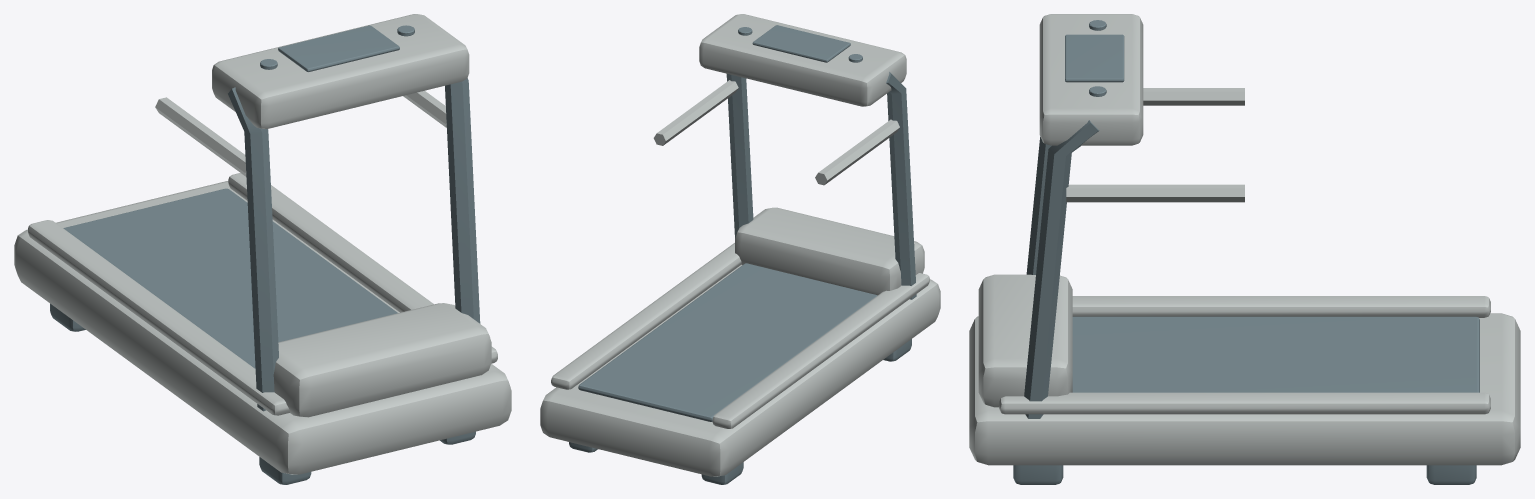
Rendered from treadmill.glb.
3 renders of one model, left to right at view 1: azimuth 30°, elevation 25°; view 2: azimuth 150°, elevation 25°; view 3: azimuth 270°, elevation 25°, orthographic. The views are drawn at different scales.
Parts seen in each view (by area): view 1: deck, running_belt, motor_cover, control_console, side_rail, front_upright, front_upright.001, side_rail.001, display, handrail, handrail.001, foot.001; view 2: running_belt, deck, motor_cover, control_console, side_rail, side_rail.001, front_upright, front_upright.001, display, handrail, handrail.001; view 3: deck, running_belt, side_rail.001, control_console, motor_cover, side_rail, front_upright.001, handrail.001, display, handrail, front_upright, foot.002 (+1 smaller).
Part boxes in pixels (x1=…): deck: x1=14, y1=181, x2=511, y2=474; running_belt: x1=63, y1=188, x2=397, y2=368; motor_cover: x1=273, y1=303, x2=491, y2=417; control_console: x1=212, y1=14, x2=469, y2=128; side_rail: x1=28, y1=220, x2=289, y2=415; front_upright: x1=228, y1=87, x2=278, y2=411; front_upright.001: x1=445, y1=78, x2=480, y2=323; side_rail.001: x1=228, y1=173, x2=497, y2=363; display: x1=278, y1=25, x2=399, y2=72; handrail: x1=155, y1=97, x2=246, y2=176; handrail.001: x1=403, y1=90, x2=446, y2=127; foot.001: x1=259, y1=457, x2=311, y2=484; running_belt: x1=578, y1=263, x2=877, y2=421; deck: x1=540, y1=264, x2=940, y2=476; motor_cover: x1=735, y1=207, x2=924, y2=295; control_console: x1=699, y1=14, x2=906, y2=106; side_rail: x1=712, y1=273, x2=929, y2=428; side_rail.001: x1=551, y1=243, x2=741, y2=389; front_upright: x1=886, y1=72, x2=916, y2=299; front_upright.001: x1=726, y1=74, x2=753, y2=238; display: x1=752, y1=25, x2=850, y2=62; handrail: x1=815, y1=119, x2=899, y2=185; handrail.001: x1=653, y1=80, x2=738, y2=145; deck: x1=969, y1=313, x2=1520, y2=465; running_belt: x1=1072, y1=316, x2=1479, y2=392; side_rail.001: x1=999, y1=392, x2=1490, y2=414; control_console: x1=1039, y1=14, x2=1143, y2=145; motor_cover: x1=978, y1=274, x2=1072, y2=407; side_rail: x1=1072, y1=296, x2=1490, y2=317; front_upright.001: x1=1024, y1=120, x2=1099, y2=418; handrail.001: x1=1066, y1=184, x2=1244, y2=202; display: x1=1065, y1=34, x2=1124, y2=82; handrail: x1=1143, y1=88, x2=1244, y2=105; front_upright: x1=1026, y1=137, x2=1051, y2=274; foot.002: x1=1426, y1=465, x2=1476, y2=484.
Bounding box in the file's own units: 0.85 × 1.35 × 1.76.
